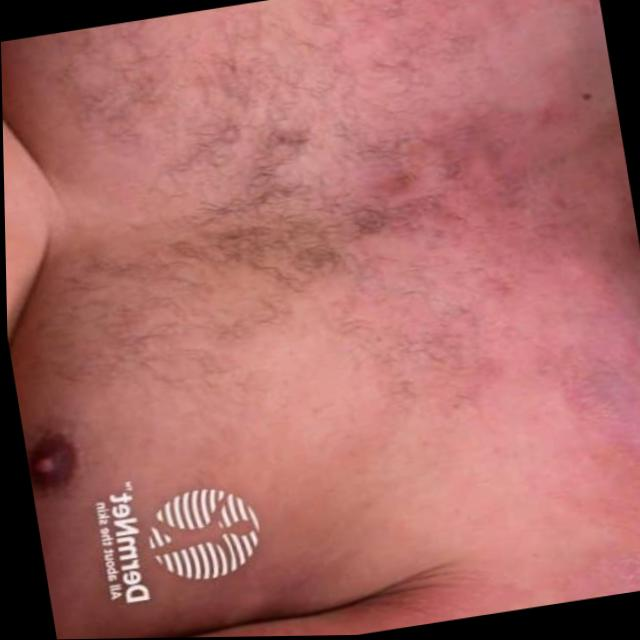Eczema: (132, 24, 631, 517)
